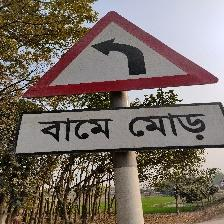Left-Turn: (17, 11, 224, 156)
